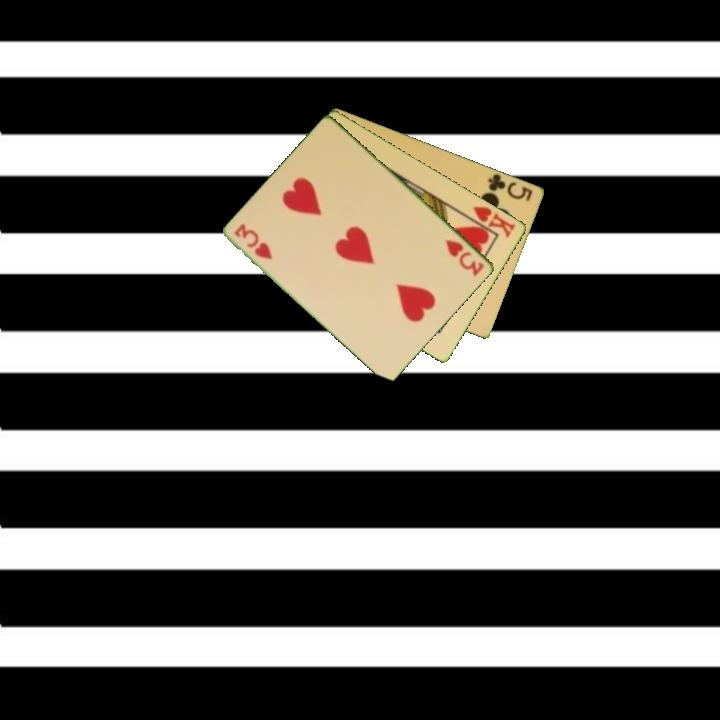3h: (442, 236, 487, 279), (231, 220, 276, 262)
5c: (485, 170, 536, 204)
Kh: (462, 202, 519, 241)
